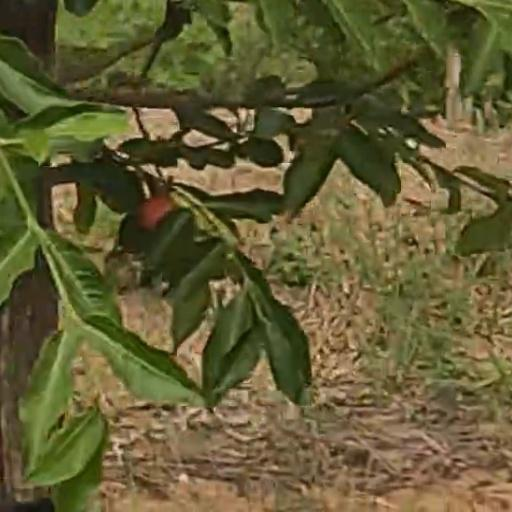acerola_vermelha: (137, 194, 168, 223)
